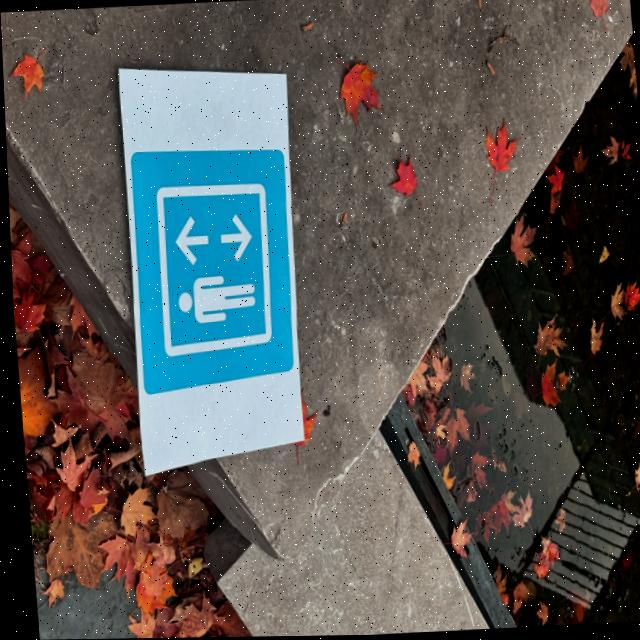elevator: (134, 152, 295, 399)
